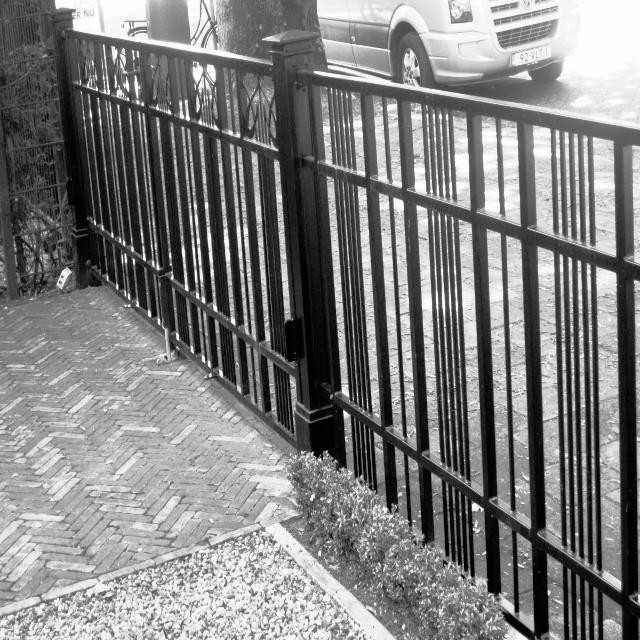fences: (338, 40, 640, 597), (68, 15, 311, 442)
